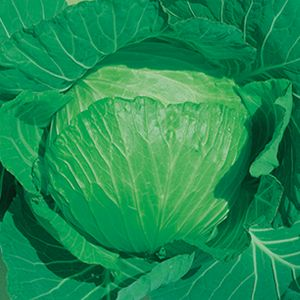cabbage: (40, 42, 256, 260)
